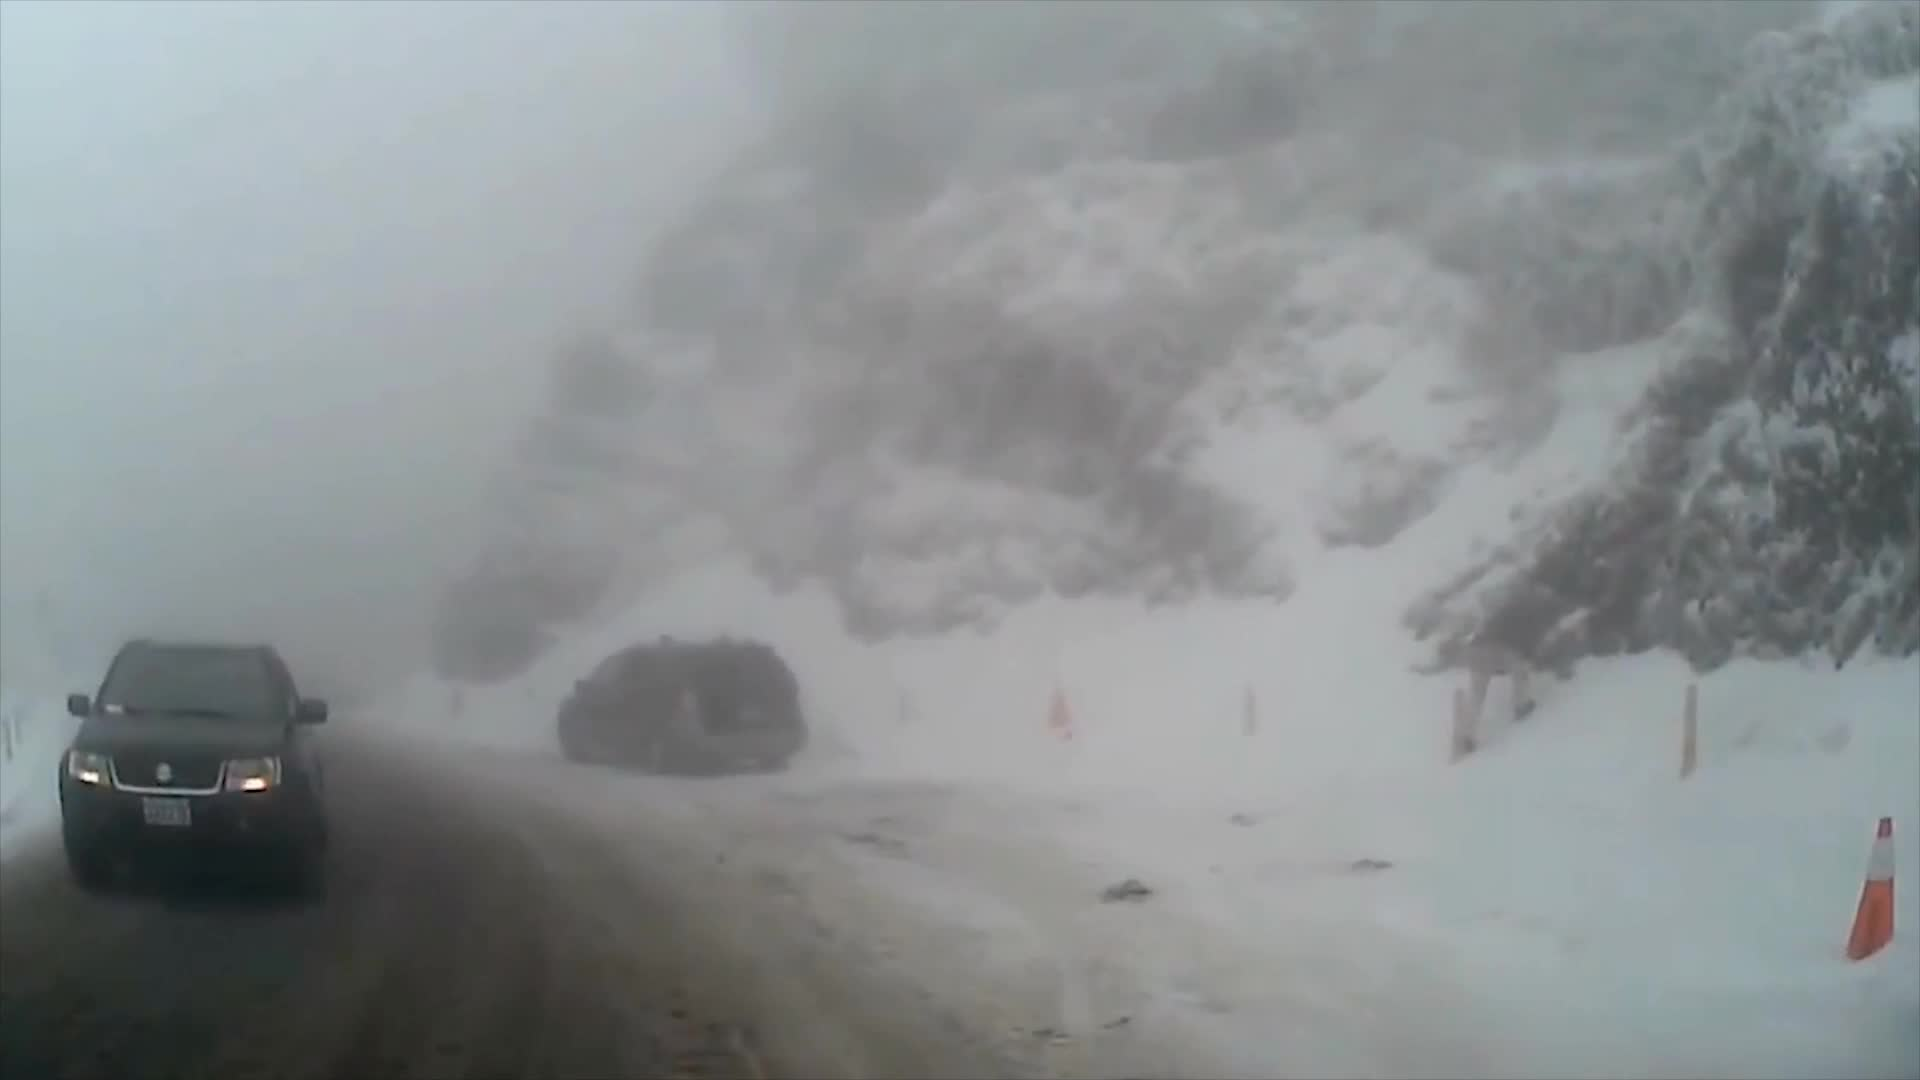vehicle: (55, 636, 332, 898), (556, 637, 804, 777)
